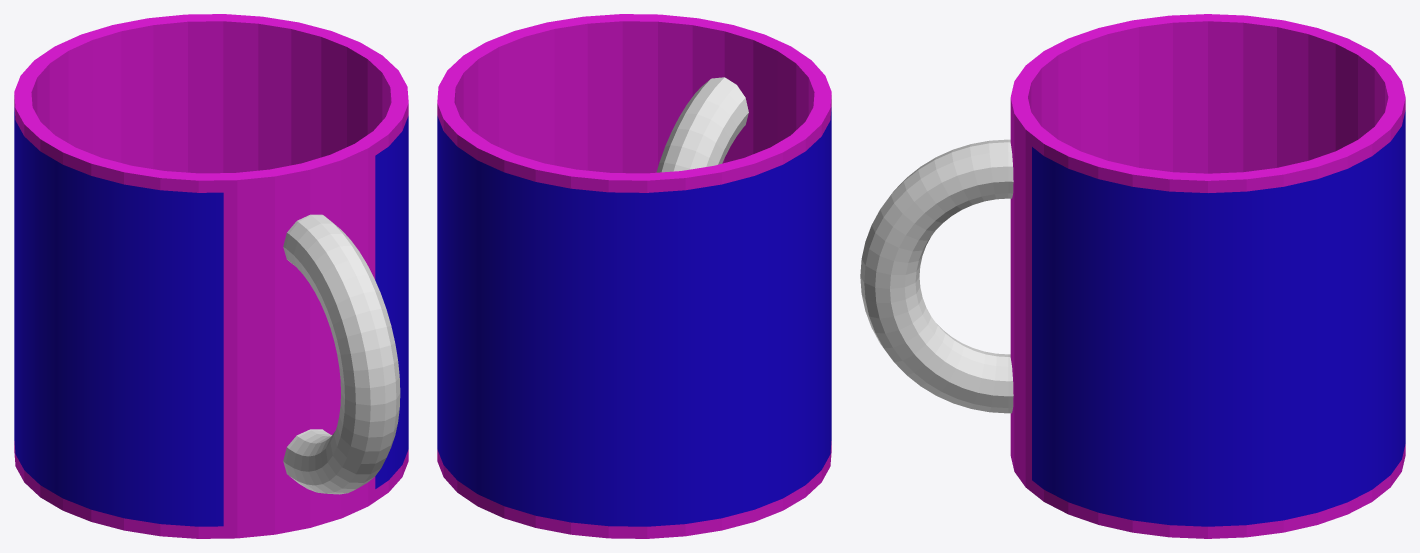
Rendered from ugly-cup.glb.
The picture shows the model from 3 angles, left to right: view 1: azimuth 30°, elevation 25°; view 2: azimuth 150°, elevation 25°; view 3: azimuth 270°, elevation 25°; orthographic projection.
Visible parts, largest first — view 1: Cylinder, Torus; view 2: Cylinder, Torus; view 3: Cylinder, Torus.
Boxes of the visible parts, box(x1,y1,x2,y2) form: Cylinder: box(14, 14, 408, 538); Torus: box(283, 214, 400, 494); Cylinder: box(437, 14, 831, 538); Torus: box(656, 77, 748, 172); Cylinder: box(1010, 14, 1405, 538); Torus: box(860, 139, 1013, 413).
Bounding box in the file's own units: 2 × 2 × 2.76.
